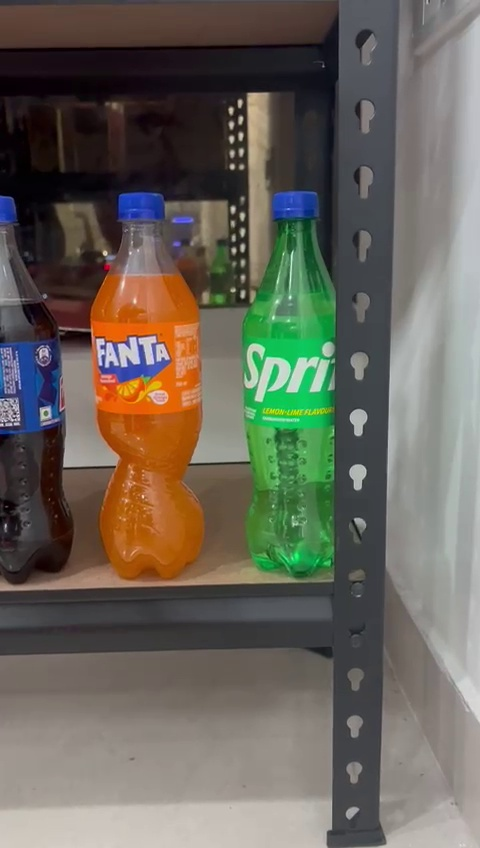Fanta: (86, 189, 210, 585)
Sprit: (245, 188, 341, 582)
